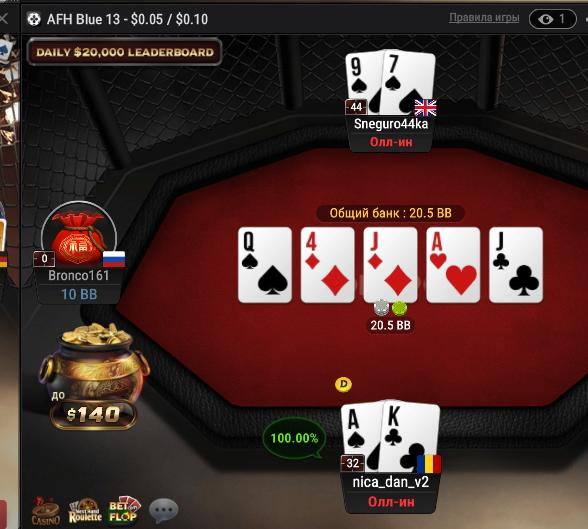4d: (302, 227, 354, 302)
7s: (382, 49, 435, 116)
9s: (346, 53, 383, 114)
Ah: (427, 227, 480, 303)
As: (340, 403, 382, 471)
Jc: (489, 228, 540, 301)
Jd: (365, 227, 416, 303)
Kc: (381, 401, 437, 472)
Qs: (238, 228, 291, 301)
